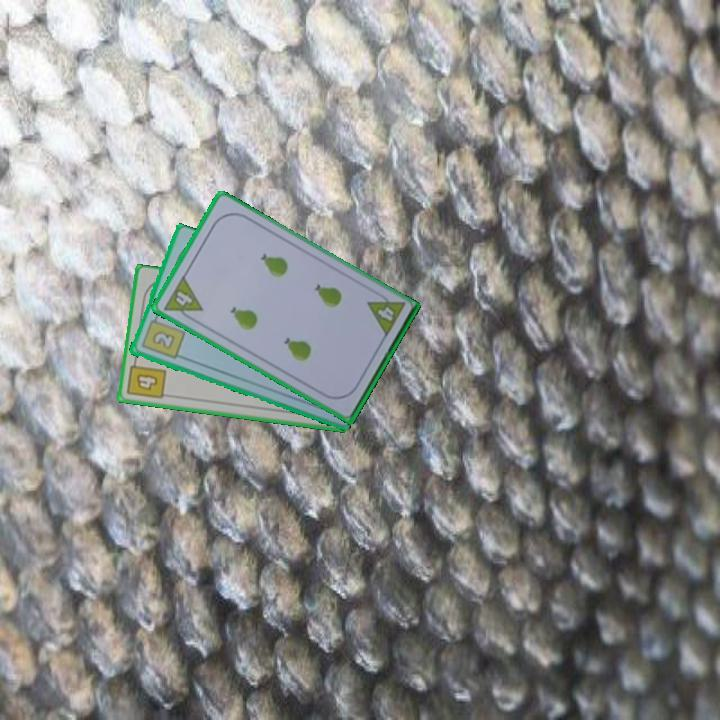2b: (138, 311, 187, 362)
4b: (124, 355, 169, 402)
4p: (160, 272, 205, 326), (364, 287, 407, 340)
